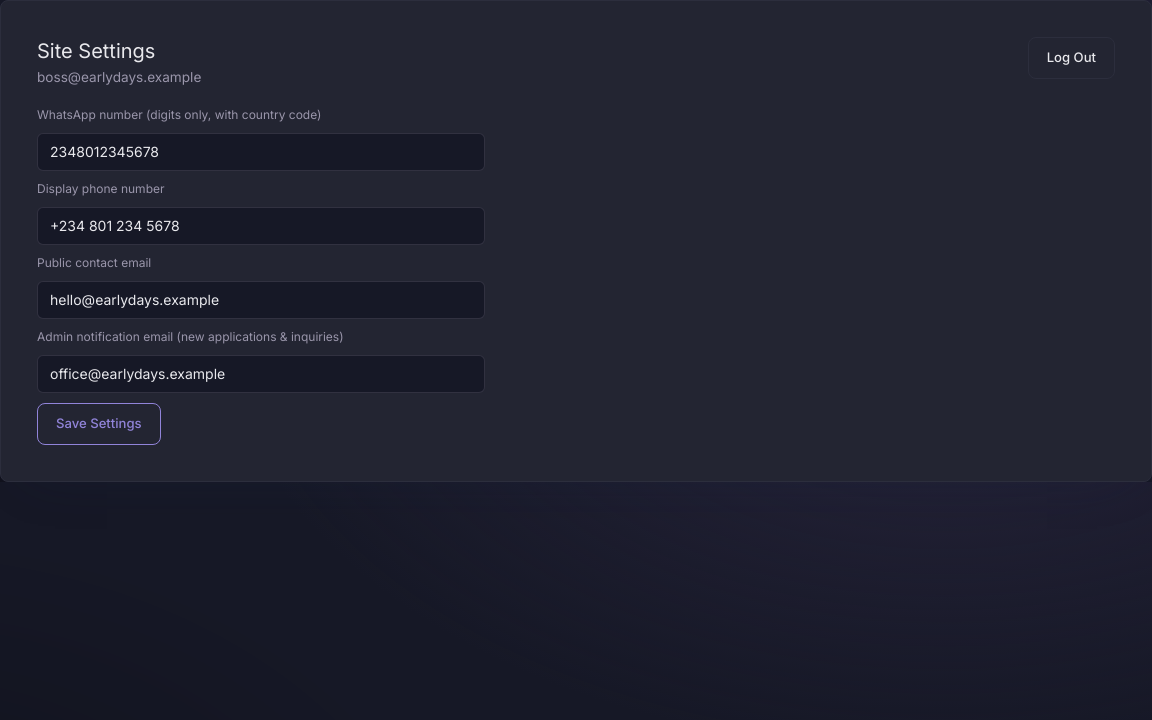
Scenario: AdminSettingsOverview › shows an error message when saving fails
Expected: the field showing "2348012345678" is shown, [37,133,485,171]
Click the button "Save Settings". click: point(99, 424)
box: [37,403,161,445]
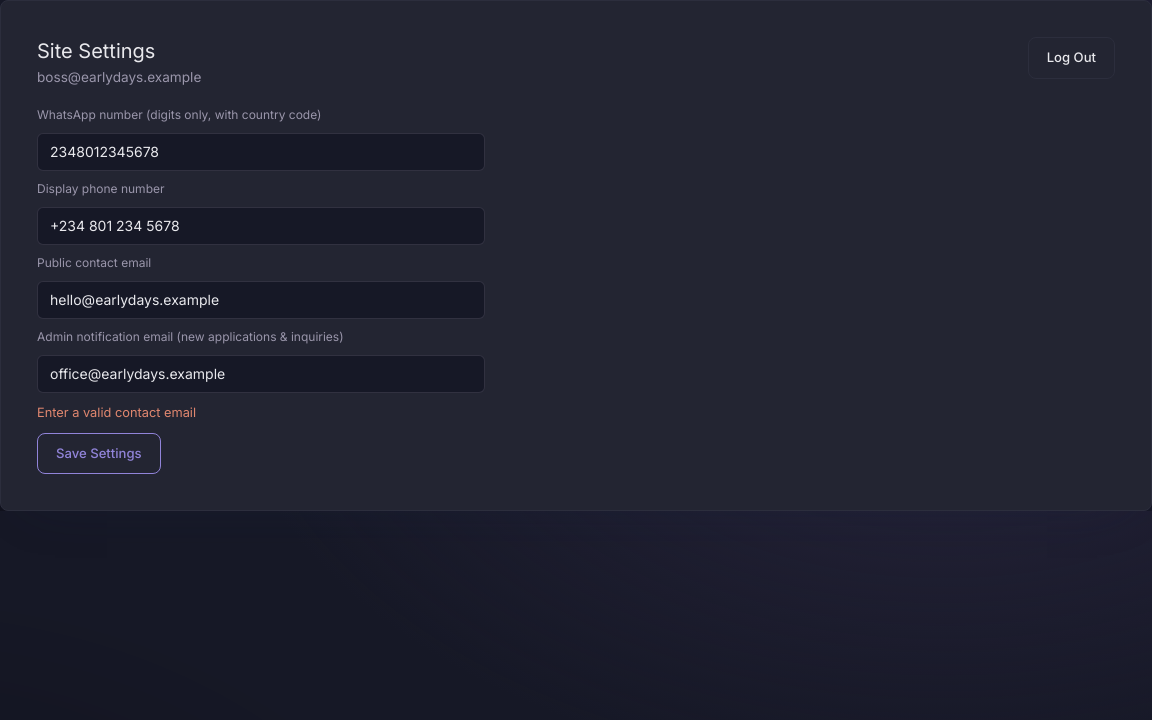
Result: the text "Enter a valid contact email" is shown at [37,405,196,420]
